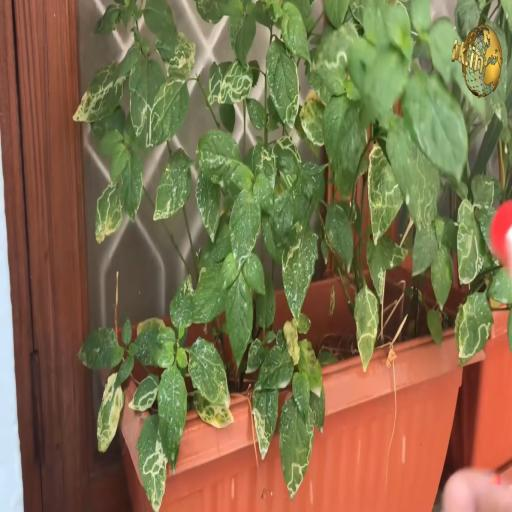Leaf_Miner: (281, 220, 319, 328), (367, 140, 404, 246), (279, 394, 314, 502), (71, 60, 126, 124), (129, 57, 165, 152), (265, 38, 300, 130), (148, 72, 190, 148), (188, 335, 231, 409), (136, 414, 168, 512), (455, 292, 494, 368), (153, 147, 192, 222), (197, 127, 243, 189), (229, 188, 260, 274), (456, 198, 485, 286), (96, 372, 125, 452), (354, 285, 379, 374), (195, 168, 221, 244), (412, 146, 435, 231), (252, 390, 279, 461), (191, 389, 235, 429), (272, 134, 303, 190), (218, 59, 254, 106), (156, 31, 197, 72), (96, 181, 122, 245), (246, 142, 277, 193), (471, 171, 503, 214), (205, 60, 232, 110), (298, 97, 325, 147), (128, 372, 160, 412), (367, 237, 385, 304), (312, 47, 350, 74), (383, 234, 409, 270)
